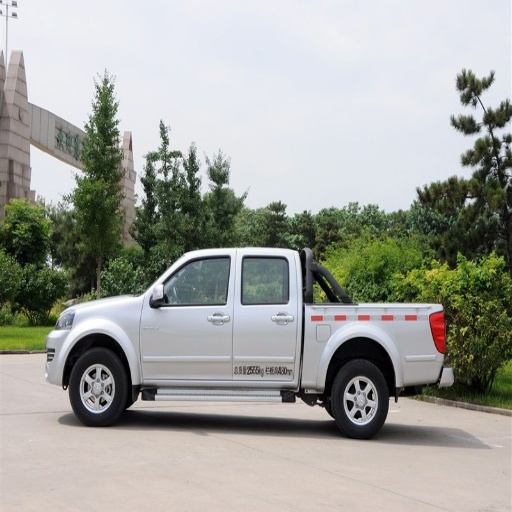back_left_door: (232, 254, 298, 375)
front_left_door: (140, 255, 234, 377)
trunk: (296, 307, 438, 388)
